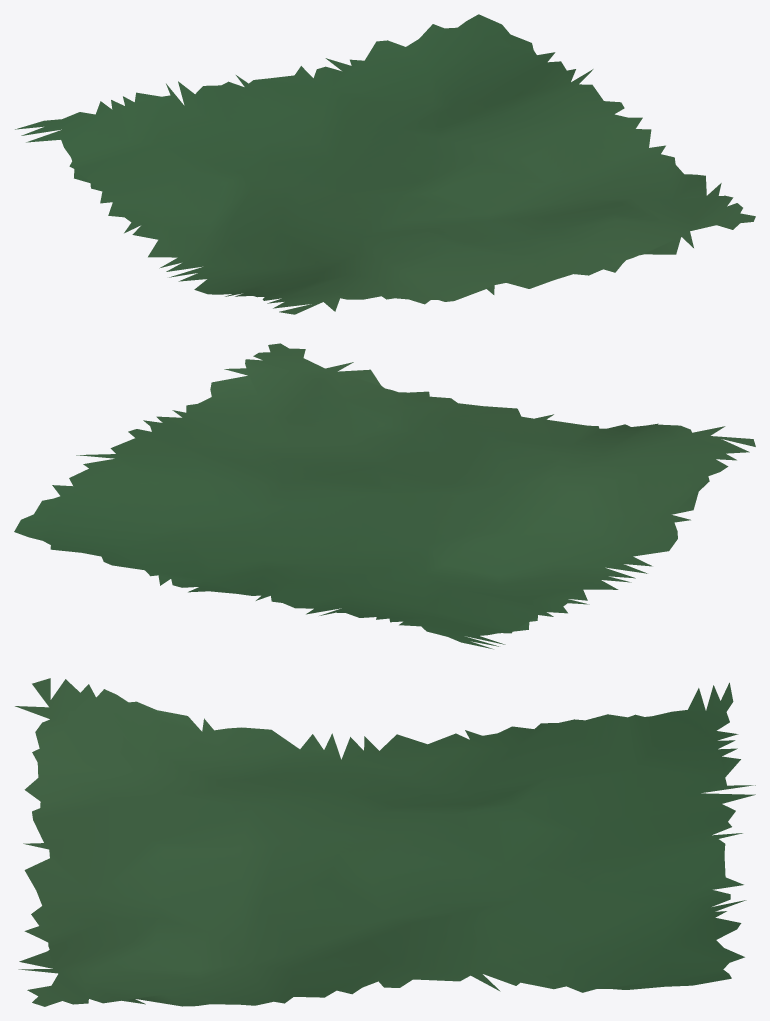
Rendered from payo_land_x1_y8_lod2.glb.
The picture shows the model from 3 angles, top to bottom: view 1: azimuth 30°, elevation 25°; view 2: azimuth 150°, elevation 25°; view 3: azimuth 270°, elevation 25°; orthographic projection. The views are drawn at different scales.
Parts seen in each view (by area): view 1: payo_land_x1_y8; view 2: payo_land_x1_y8; view 3: payo_land_x1_y8.
Boxes of the visible parts, x1,y1,x2,y2 form: payo_land_x1_y8: (15, 14, 755, 314); payo_land_x1_y8: (14, 343, 755, 649); payo_land_x1_y8: (15, 678, 755, 1006).
Size of the model in its own units: 277 by 24 by 275.
